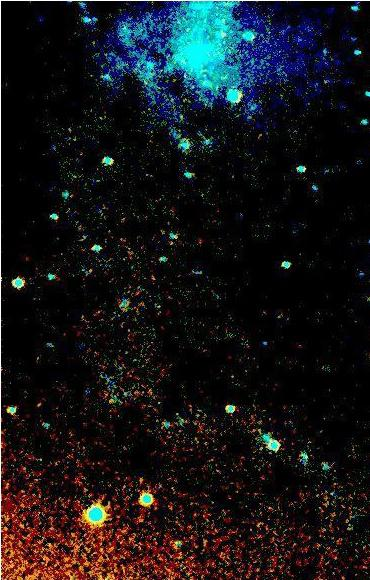star: (125, 464, 155, 494)
